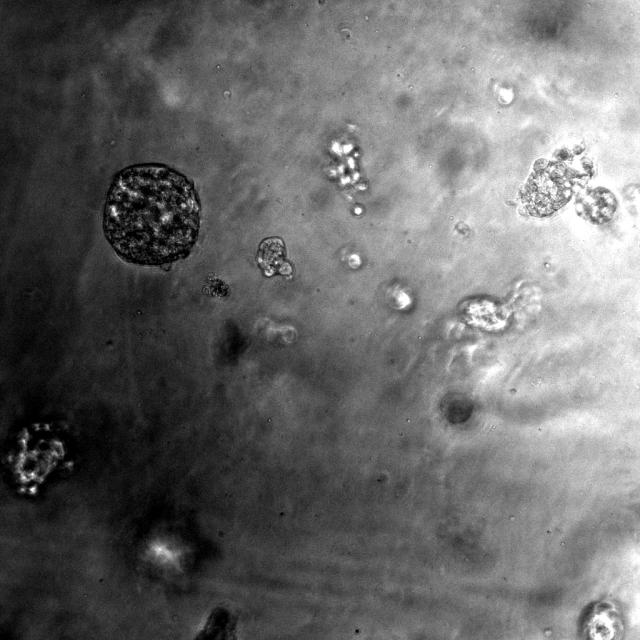organoid: (102, 163, 201, 272), (518, 142, 618, 225), (0, 421, 74, 496), (456, 282, 541, 334), (324, 132, 369, 216), (214, 319, 249, 365), (580, 602, 623, 639), (256, 237, 292, 279), (195, 607, 237, 639), (441, 392, 474, 423), (202, 274, 229, 297)
